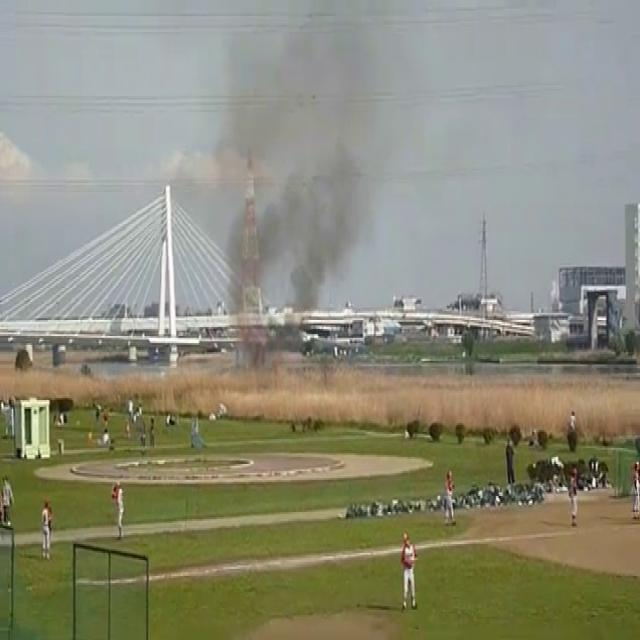Smoke: (200, 1, 431, 316)
